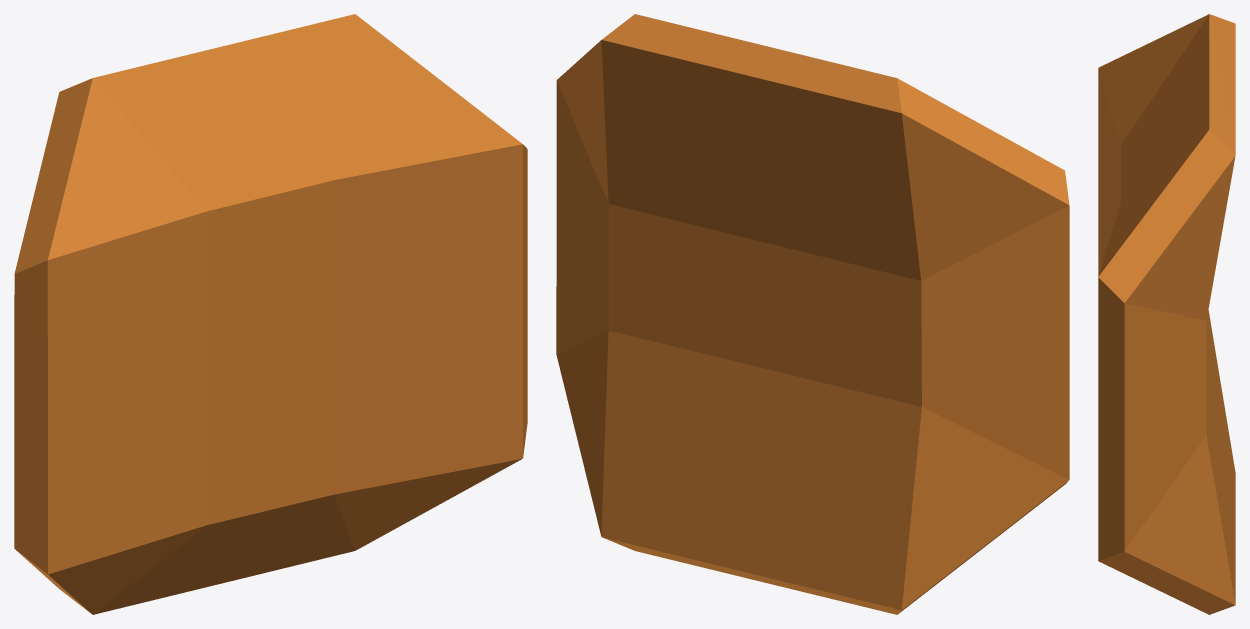
Rendered from Platform.obj.
3 renders of one model, left to right at view 1: azimuth 30°, elevation 25°; view 2: azimuth 150°, elevation 25°; view 3: azimuth 270°, elevation 25°, orthographic. The views are drawn at different scales.
Parts seen in each view (by area): view 1: Cylinder.001_Cylinder.009; view 2: Cylinder.001_Cylinder.009; view 3: Cylinder.001_Cylinder.009.
Boxes of the visible parts, x1,y1,x2,y2 form: Cylinder.001_Cylinder.009: (14, 14, 527, 614); Cylinder.001_Cylinder.009: (556, 14, 1069, 614); Cylinder.001_Cylinder.009: (1098, 14, 1235, 614).
Bounding box in the file's own units: 2.38 × 2.38 × 0.6094.
